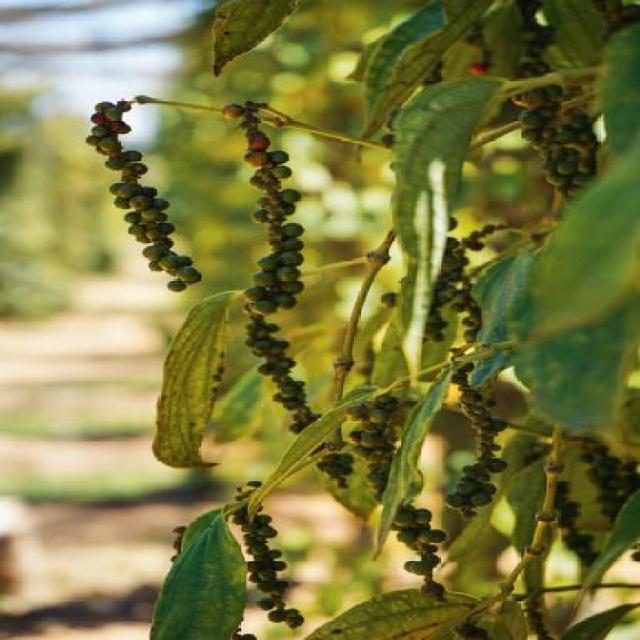RIPE: (220, 103, 269, 166), (462, 62, 488, 76)
UNRIPE: (243, 151, 346, 488), (83, 97, 197, 291), (351, 393, 445, 579), (229, 482, 303, 629), (443, 365, 503, 519), (517, 85, 592, 196), (435, 215, 483, 337), (553, 482, 602, 563), (577, 440, 632, 512), (511, 1, 551, 74), (422, 580, 589, 589), (588, 3, 632, 25), (171, 523, 185, 557)
